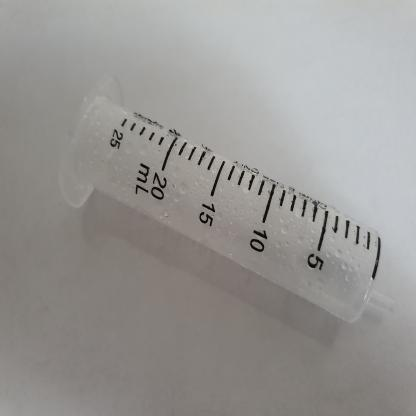wet: (61, 60, 399, 335)
